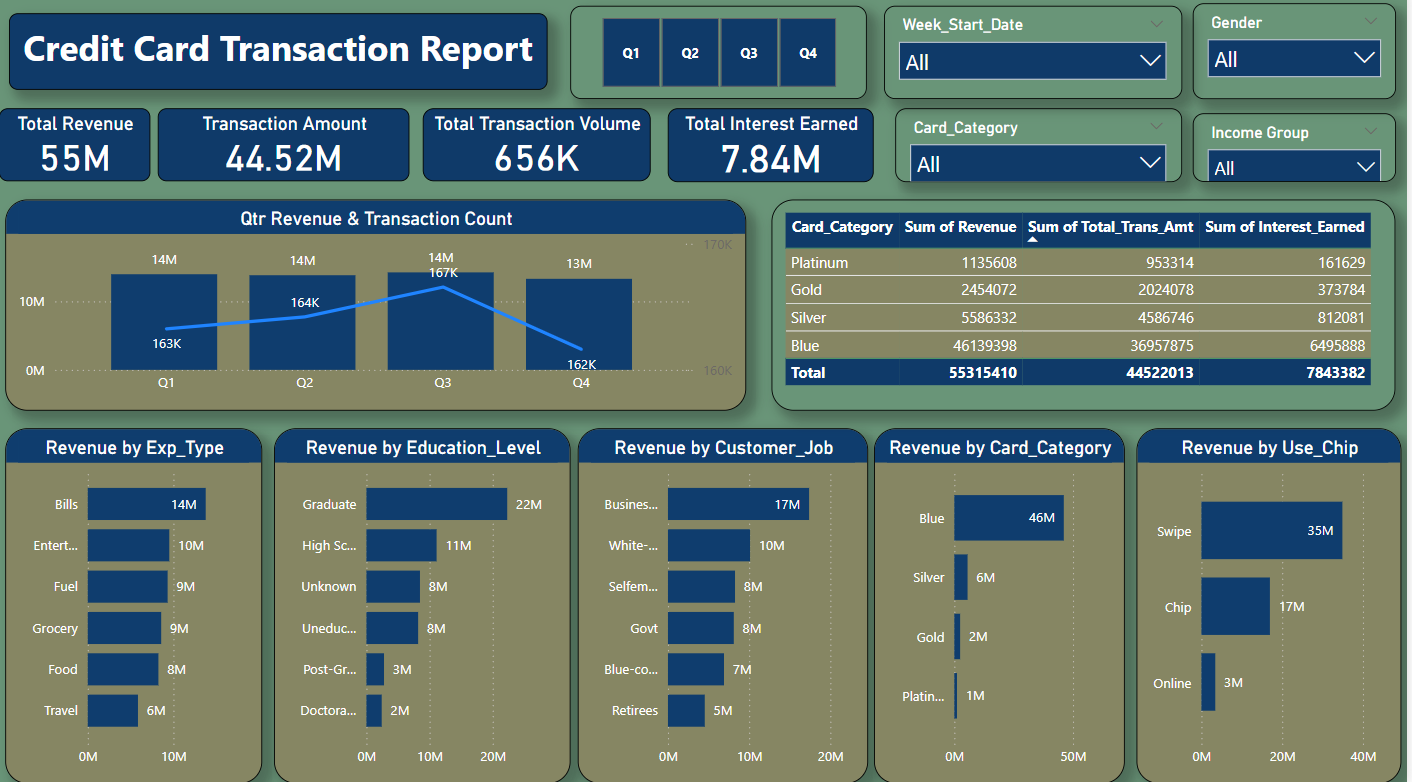

The page's visual inventory and layout, read from the dashboard file:
{"tool":"powerbi","page":{"name":"Page 1","canvas":[1280,720],"ordinal":0},"visuals":[{"type":"textbox","box":[9.3,19.8,489.5,69.8],"z":0},{"type":"card","title":"Total Revenue","fields":{"Values":["Sum(credit_card.Revenue)"]},"box":[0,105.8,137.2,66.3],"z":0,"group":"g1"},{"type":"card","title":"Total Interest Earned","fields":{"Values":["Sum(credit_card.Interest_Earned)"]},"box":[608.1,105.8,187.2,67.4],"z":1000,"group":"g1"},{"type":"lineStackedColumnComboChart","title":"Qtr Revenue & Transaction Count","fields":{"Y":["Sum(credit_card.Revenue)"],"Category":["credit_card.Qtr"],"Y2":["Sum(credit_card.Total_Trans_Vol)"]},"box":[5.8,188.4,673.3,191.9],"z":1000},{"type":"card","title":"Transaction Amount","fields":{"Values":["Sum(credit_card.Total_Trans_Amt)"]},"box":[144.2,106,229.1,66.3],"z":2000,"group":"g1"},{"type":"barChart","title":"Revenue by Exp_Type","fields":{"Category":["credit_card.Exp_Type"],"Y":["Sum(credit_card.Revenue)"]},"box":[5.8,396.5,233.7,323.3],"z":2000},{"type":"card","title":"Total Transaction Volume","fields":{"Values":["Sum(credit_card.Total_Trans_Vol)"]},"box":[384.9,106,207,66.3],"z":3000,"group":"g1"},{"type":"barChart","title":"Revenue by Education_Level","fields":{"Category":["customer.Education_Level"],"Y":["Sum(credit_card.Revenue)"]},"box":[250,396.5,269.8,323.3],"z":3000},{"type":"barChart","title":"Revenue by Customer_Job","fields":{"Category":["customer.Customer_Job"],"Y":["Sum(credit_card.Revenue)"]},"box":[525.6,396.5,264,323.3],"z":4000},{"type":"barChart","title":"Revenue by Card_Category","fields":{"Category":["credit_card.Card_Category"],"Y":["Sum(credit_card.Revenue)"]},"box":[795.4,396.5,227.9,323.3],"z":5000},{"type":"barChart","title":"Revenue by Use_Chip","fields":{"Category":["credit_card.Use_Chip"],"Y":["Sum(credit_card.Revenue)"]},"box":[1033.7,396.5,240.7,323.3],"z":6000},{"type":"slicer","fields":{"Values":["credit_card.Qtr"]},"box":[519.8,12.8,269.8,84.9],"z":7000},{"type":"slicer","fields":{"Values":["credit_card.Week_Start_Date"]},"box":[804.7,12.8,270.9,84.9],"z":8000},{"type":"slicer","fields":{"Values":["customer.Gender"]},"box":[1084.9,10.5,184.9,87.2],"z":9000},{"type":"slicer","fields":{"Values":["credit_card.Card_Category"]},"box":[815.1,105.8,260.5,67.4],"z":10000},{"type":"slicer","fields":{"Values":["customer.Income Group"]},"box":[1084.9,110.5,184.9,62.8],"z":11000},{"type":"tableEx","fields":{"Values":["credit_card.Card_Category","Sum(credit_card.Revenue)","Sum(credit_card.Total_Trans_Amt)","Sum(credit_card.Interest_Earned)"]},"box":[690.9,188.6,578.4,192],"z":12000},{"type":"group","id":"g1","title":"Group 1","box":[0,105.8,795.4,67.4],"z":13000}]}

Visuals, with their boxes in screenshot pixels (x1, y1, x2, y2), scaled from the page's 1280x720 canvas onto the 1412x782 screenshot:
textbox: (10,22,550,97)
"Total Revenue" card: (0,115,151,187)
"Total Interest Earned" card: (671,115,877,188)
"Qtr Revenue & Transaction Count" lineStackedColumnComboChart: (6,205,749,413)
"Transaction Amount" card: (159,115,412,187)
"Revenue by Exp_Type" barChart: (6,431,264,781)
"Total Transaction Volume" card: (425,115,653,187)
"Revenue by Education_Level" barChart: (276,431,573,781)
"Revenue by Customer_Job" barChart: (580,431,871,781)
"Revenue by Card_Category" barChart: (877,431,1129,781)
"Revenue by Use_Chip" barChart: (1140,431,1406,781)
slicer - credit_card.Qtr: (573,14,871,106)
slicer - credit_card.Week_Start_Date: (888,14,1187,106)
slicer - customer.Gender: (1197,11,1401,106)
slicer - credit_card.Card_Category: (899,115,1187,188)
slicer - customer.Income Group: (1197,120,1401,188)
tableEx - credit_card.Card_Category x Sum(credit_card.Revenue): (762,205,1400,413)
"Group 1" group: (0,115,877,188)
